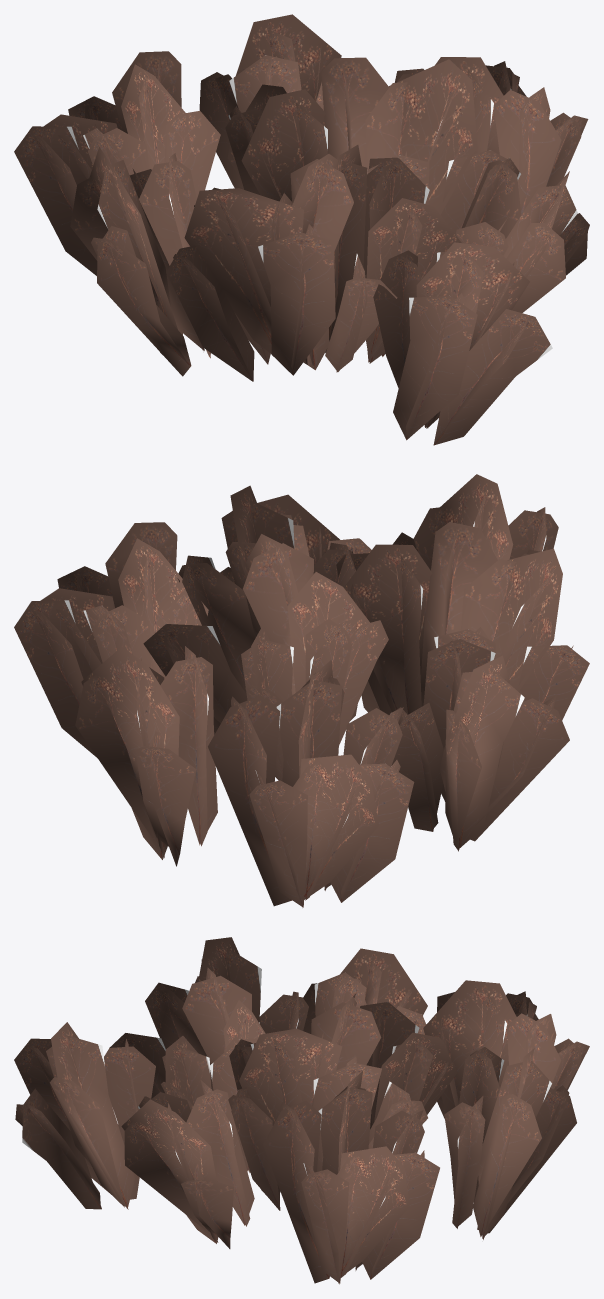
Rendered from Grass_patch_6.fbx.
3 renders of one model, top to bottom at view 1: azimuth 30°, elevation 25°; view 2: azimuth 150°, elevation 25°; view 3: azimuth 270°, elevation 25°, orthographic. The views are drawn at different scales.
Parts seen in each view (by area): view 1: Grass_Patch_6; view 2: Grass_Patch_6; view 3: Grass_Patch_6.
Boxes of the visible parts, box(x1,y1,x2,y2) form: Grass_Patch_6: box(14, 14, 589, 445); Grass_Patch_6: box(14, 474, 589, 907); Grass_Patch_6: box(14, 937, 589, 1284).
Bounding box in the file's own units: 2.52 × 1.32 × 2.94.
